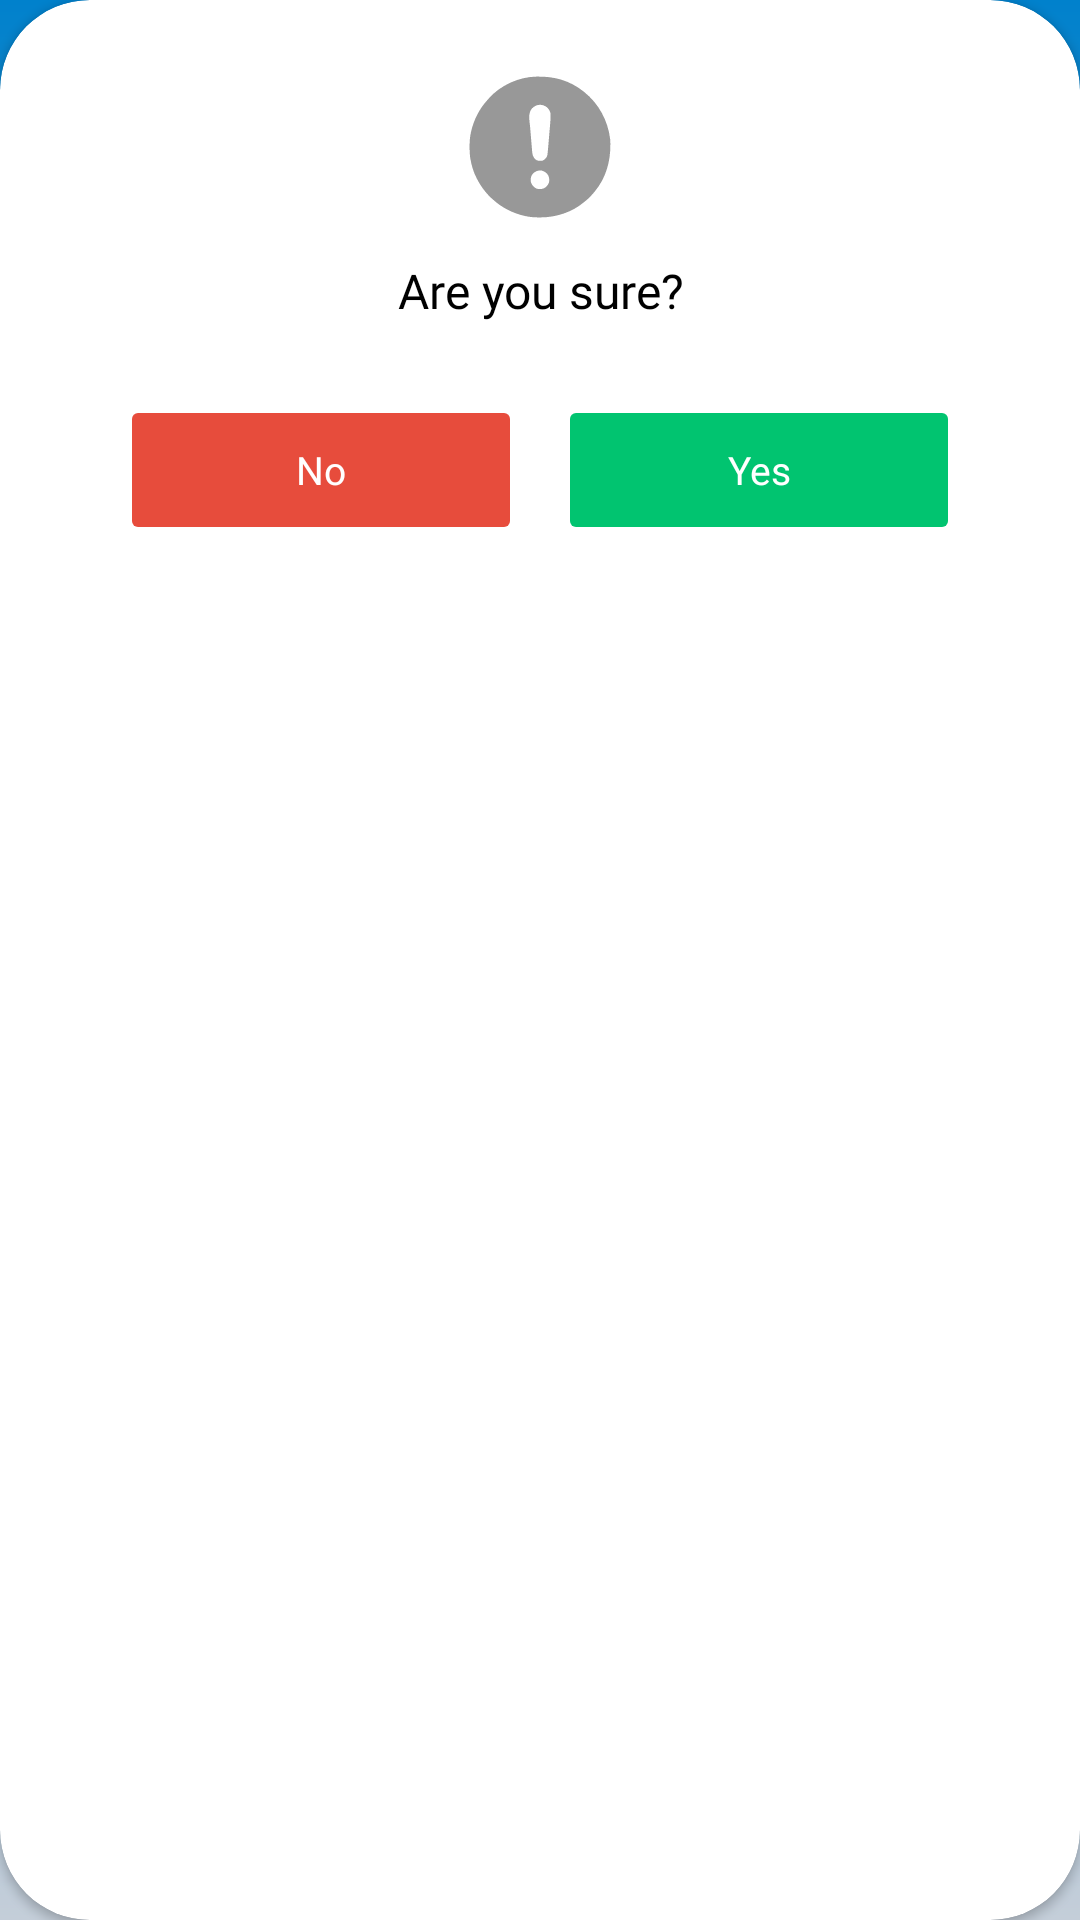

Locate icon controls on the screen. Image size 1080×1920, boxes as rect(x1, y1, x2, y2).
warning: rect(469, 76, 611, 218)
